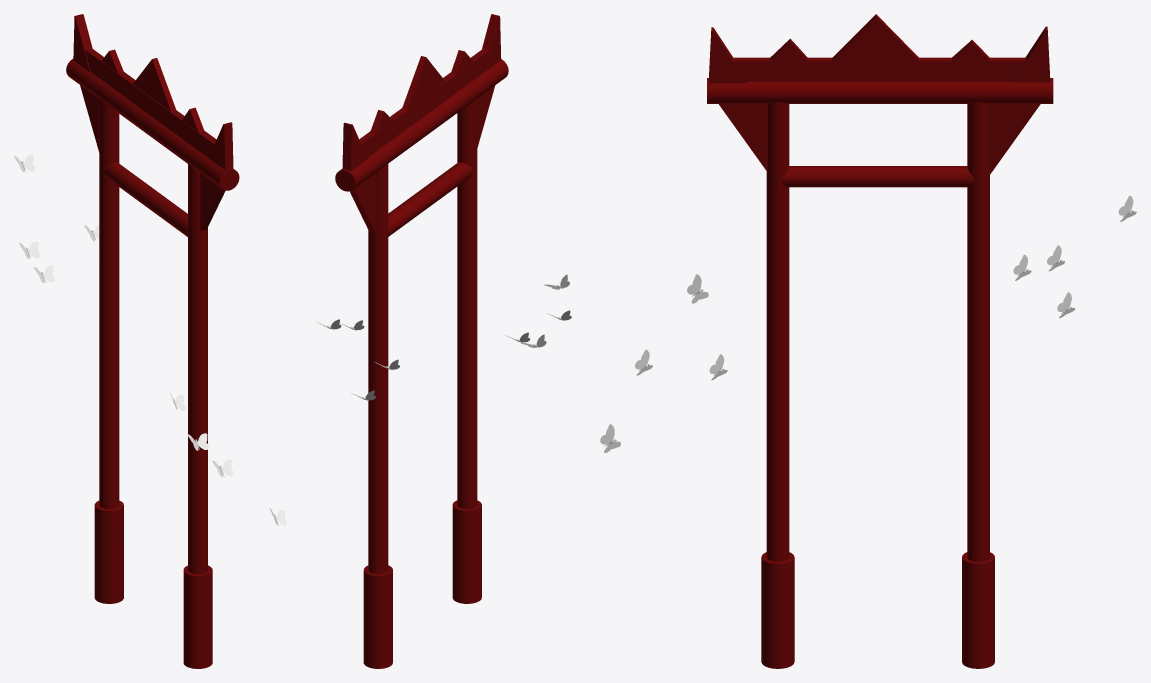
File: เสาชิงช้า ผีเสื้อ.fbx
3 views of the same model, side by side, from view 1: azimuth 30°, elevation 25°; view 2: azimuth 150°, elevation 25°; view 3: azimuth 270°, elevation 25° (orthographic). The views are drawn at different scales.
Parts seen in each view (by area): view 1: pCylinder7, pCylinder1, pCylinder6, pCylinder8, pCylinder3, pCube7, pCylinder5, pCube10, pCube4, pCube6, pCube5, pCube3; view 2: pCylinder1, pCylinder7, pCylinder6, pCylinder3, pCylinder8, pCube7, pCylinder5, pCube10, pCube3, pCube6, pCube5, pCube4; view 3: pCylinder1, pCylinder7, pCylinder6, pCube7, pCylinder5, pCylinder3, pCylinder8, pCube10, pCube3, pCube4, pCube5, pCube6.
Part boxes in pixels (x1,y1,x2,y2): pCylinder7: (99, 99, 119, 508); pCylinder1: (188, 164, 207, 573); pCylinder6: (66, 59, 239, 190); pCylinder8: (94, 500, 123, 603); pCylinder3: (183, 565, 212, 668); pCube7: (85, 48, 219, 165); pCylinder5: (102, 162, 188, 236); pCube10: (133, 58, 176, 112); pCube4: (200, 173, 225, 230); pCube6: (73, 14, 92, 72); pCube5: (214, 122, 233, 170); pCube3: (80, 85, 99, 152); pCylinder1: (457, 98, 477, 508); pCylinder7: (368, 163, 388, 573); pCylinder6: (335, 59, 508, 191); pCylinder3: (452, 500, 481, 603); pCylinder8: (363, 565, 392, 668); pCube7: (359, 46, 495, 157); pCylinder5: (388, 162, 473, 236); pCube10: (402, 56, 445, 109); pCube3: (350, 173, 375, 233); pCube6: (342, 122, 367, 171); pCube5: (482, 14, 501, 63); pCube4: (477, 85, 495, 147); pCylinder1: (766, 101, 789, 561); pCylinder7: (967, 101, 989, 561); pCylinder6: (707, 78, 1053, 103); pCube7: (733, 57, 1025, 81); pCylinder5: (781, 166, 974, 187); pCylinder3: (761, 552, 794, 668); pCylinder8: (962, 552, 994, 668); pCube10: (832, 14, 919, 60); pCube3: (988, 104, 1040, 175); pCube4: (719, 104, 767, 172); pCube5: (709, 27, 746, 83); pCube6: (1012, 26, 1050, 82).
Size of the model in its own units: 4.69 by 31.62 by 23.78.
